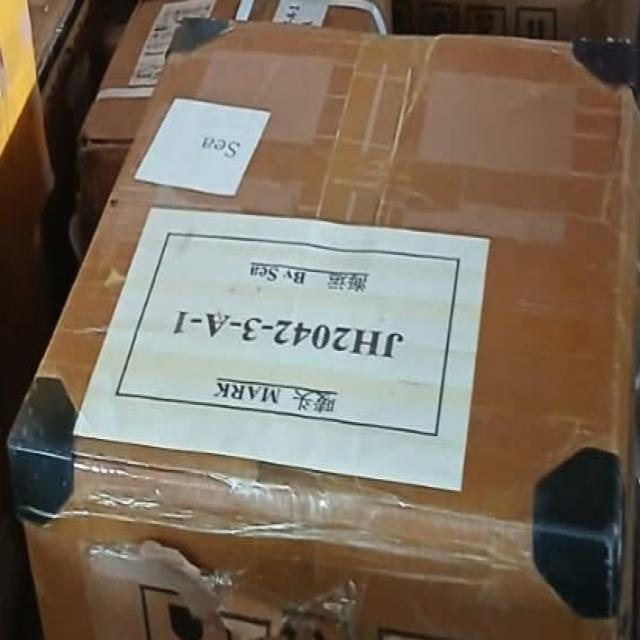carton_box: (4, 0, 640, 640)
export_mark_label: (84, 200, 512, 468)
